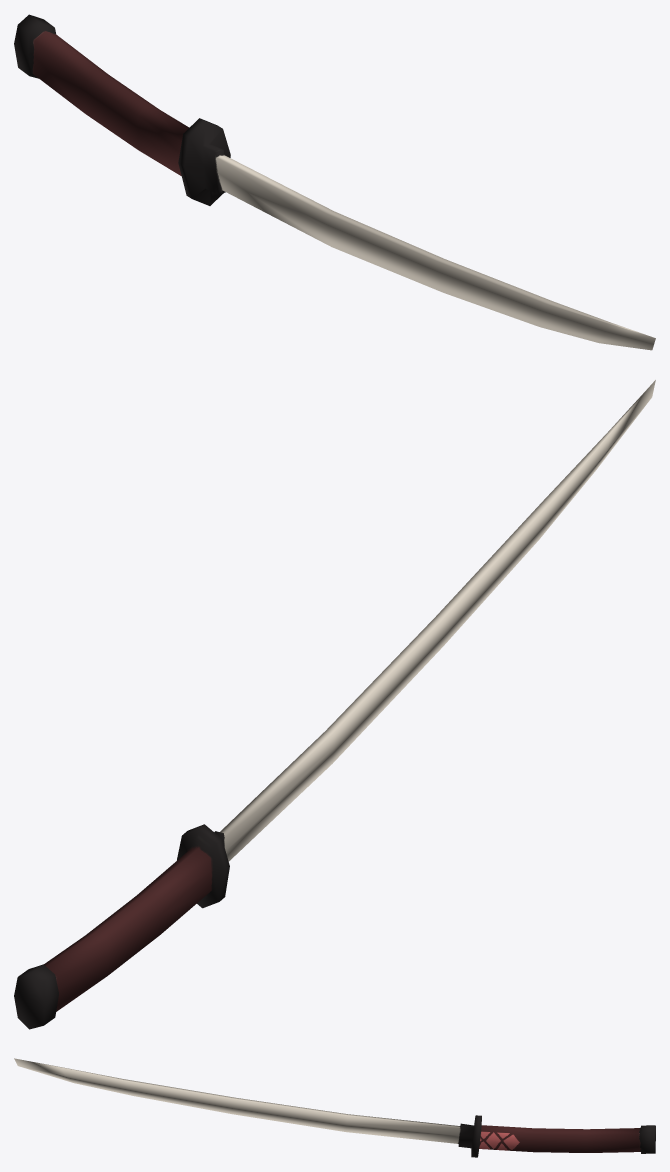
File: Katana.fbx
3 renders of one model, top to bottom at view 1: azimuth 30°, elevation 25°; view 2: azimuth 150°, elevation 25°; view 3: azimuth 270°, elevation 25°, orthographic. The views are drawn at different scales.
Parts seen in each view (by area): view 1: Espada.001; view 2: Espada.001; view 3: Espada.001.
Boxes of the visible parts, left/top/right/bottom form: Espada.001: left=14, top=14, right=655, bottom=350; Espada.001: left=14, top=380, right=655, bottom=1029; Espada.001: left=14, top=1058, right=655, bottom=1157.
Size of the model in its own units: 4.23 by 16.83 by 98.2.
